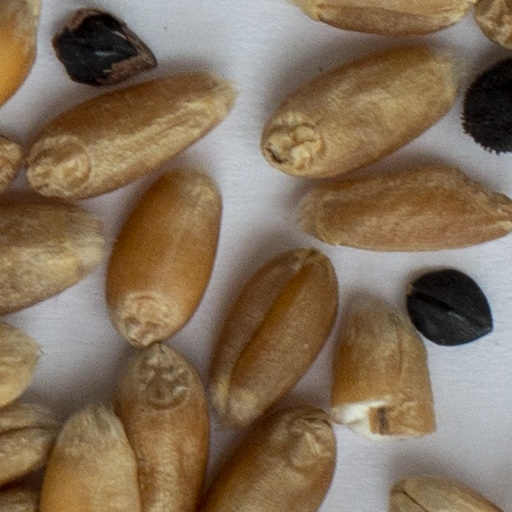Agrostemma-poly: (463, 58, 511, 150)
Fallopia-Convolvulus-poly: (55, 10, 155, 89), (408, 270, 491, 345)
Wheat-grain-damaged-poly: (335, 295, 434, 440)
Wheat-grain-poly: (389, 477, 501, 511)
